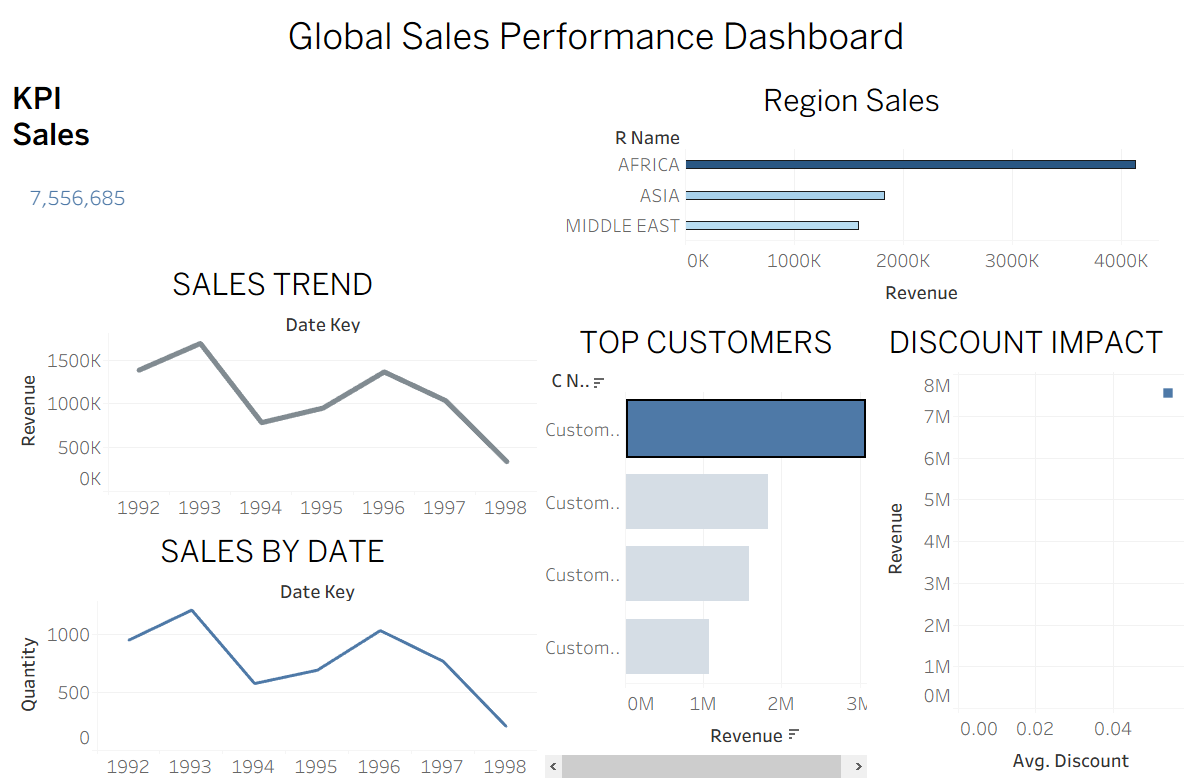

The dashboard page shown, as its layout file describes it:
{"tool":"tableau","page":{"name":"Dashboard 1","canvas":[1200,800],"ordinal":0},"visuals":[{"type":"title","box":[8,8,1184,74]},{"type":"worksheet","title":"KPI Sales","mark":"Automatic","box":[8,82,537,184]},{"type":"worksheet","title":"REGION SALES","mark":"Automatic","rows":["R_NAME"],"cols":["REVENUE"],"box":[545,82,647,242]},{"type":"worksheet","title":"SALES TREND","mark":"Automatic","rows":["REVENUE"],"cols":["DATE_KEY"],"box":[8,266,537,267]},{"type":"worksheet","title":"TOP CUSTOMERS","mark":"Automatic","rows":["C_NAME"],"cols":["REVENUE"],"box":[545,324,330,468]},{"type":"worksheet","title":"DISCOUNT IMPACT","mark":"Automatic","rows":["REVENUE"],"cols":["DISCOUNT"],"box":[875,324,317,468]},{"type":"worksheet","title":"SALES BY DATE","mark":"Automatic","rows":["QUANTITY"],"cols":["DATE_KEY"],"box":[8,533,537,259]}]}

Visuals, with their boxes in screenshot pixels (x1, y1, x2, y2), scaled from the page's 1200x800 canvas onto the 1192x781 screenshot:
title: region(8, 8, 1184, 80)
"KPI Sales" worksheet: region(8, 80, 541, 260)
"REGION SALES" worksheet: region(541, 80, 1184, 316)
"SALES TREND" worksheet: region(8, 260, 541, 520)
"TOP CUSTOMERS" worksheet: region(541, 316, 869, 773)
"DISCOUNT IMPACT" worksheet: region(869, 316, 1184, 773)
"SALES BY DATE" worksheet: region(8, 520, 541, 773)
